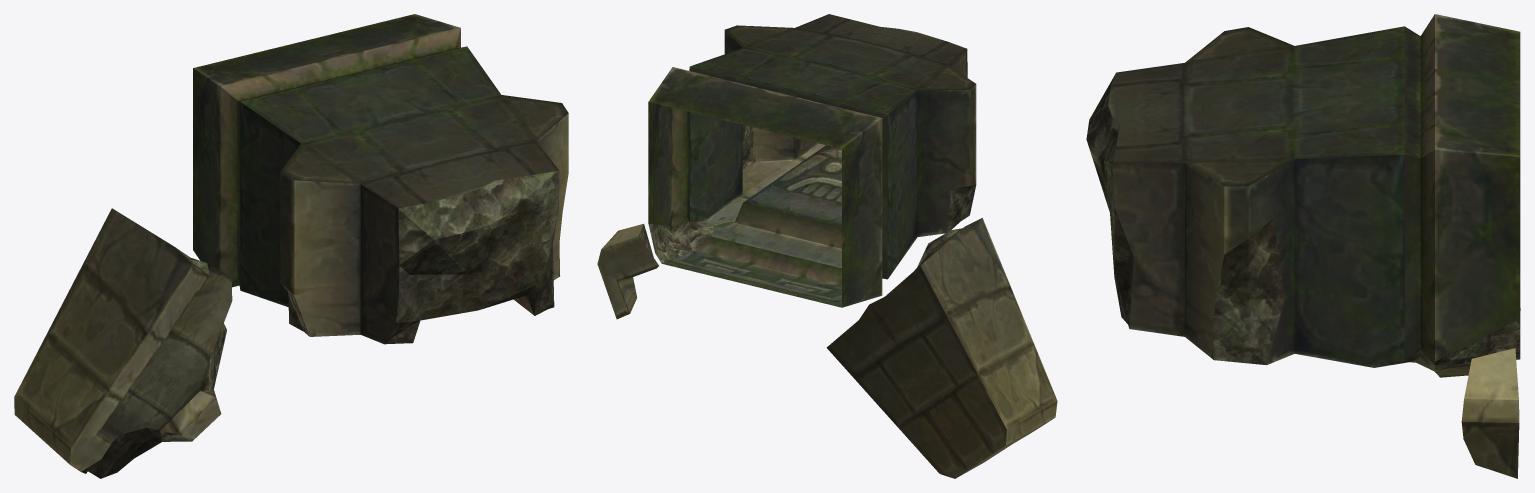
The model's file is taitan_fuben_02_jitan_03_b.obj.
3 views of the same model, side by side, from view 1: azimuth 30°, elevation 25°; view 2: azimuth 150°, elevation 25°; view 3: azimuth 270°, elevation 25° (orthographic). The views are drawn at different scales.
Parts seen in each view (by area): view 1: taitan_fuben_02_jitan_04; view 2: taitan_fuben_02_jitan_04; view 3: taitan_fuben_02_jitan_04.
Part boxes in pixels (x1=…): taitan_fuben_02_jitan_04: x1=14, y1=14, x2=568, y2=478; taitan_fuben_02_jitan_04: x1=597, y1=14, x2=1057, y2=478; taitan_fuben_02_jitan_04: x1=1086, y1=14, x2=1520, y2=478.
Bounding box in the file's own units: 134 × 99.31 × 92.38.
Materials: 2 (2 with a texture image).
